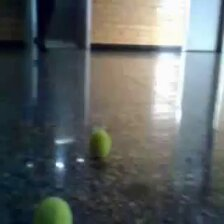tennis: (32, 197, 73, 224), (89, 129, 111, 163)
